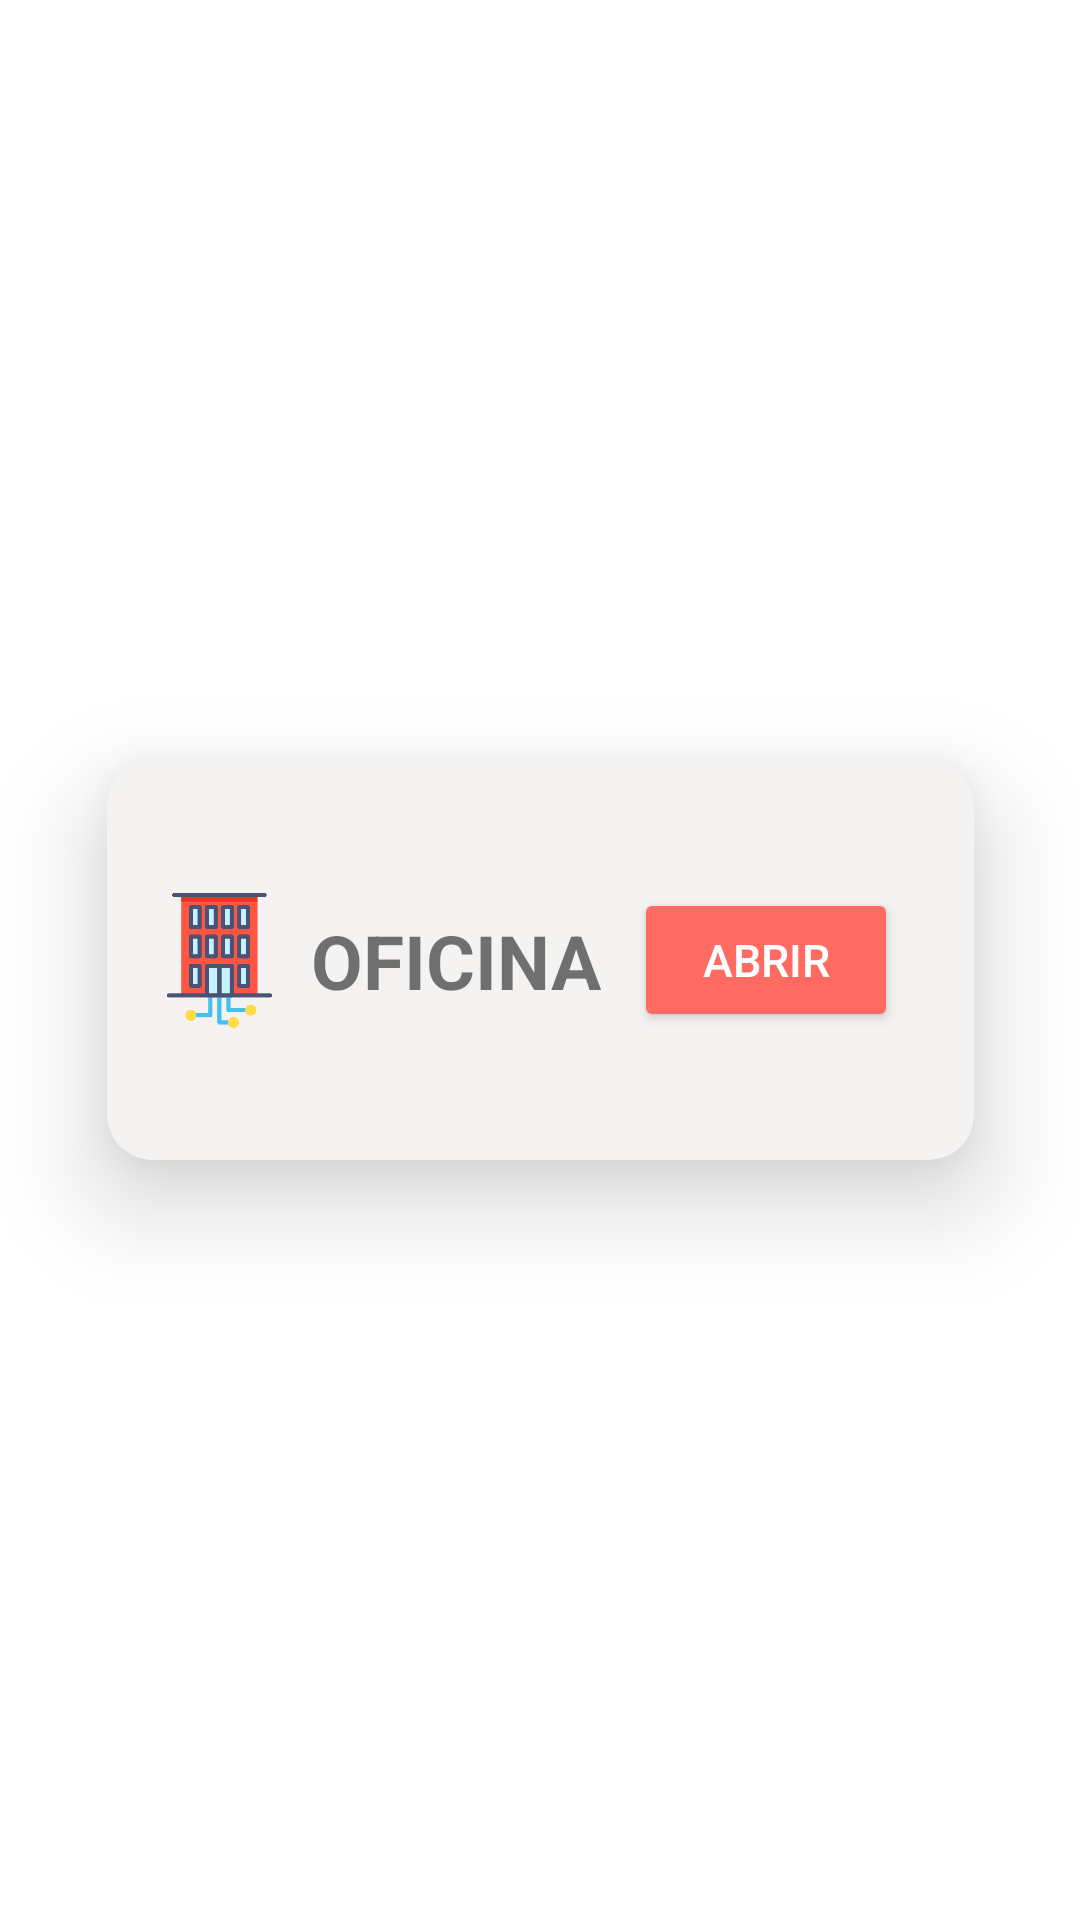

Point at icon controls on the screen. Image size 1080w x 1920h, points as point (x, y).
edifice: point (219, 960)
